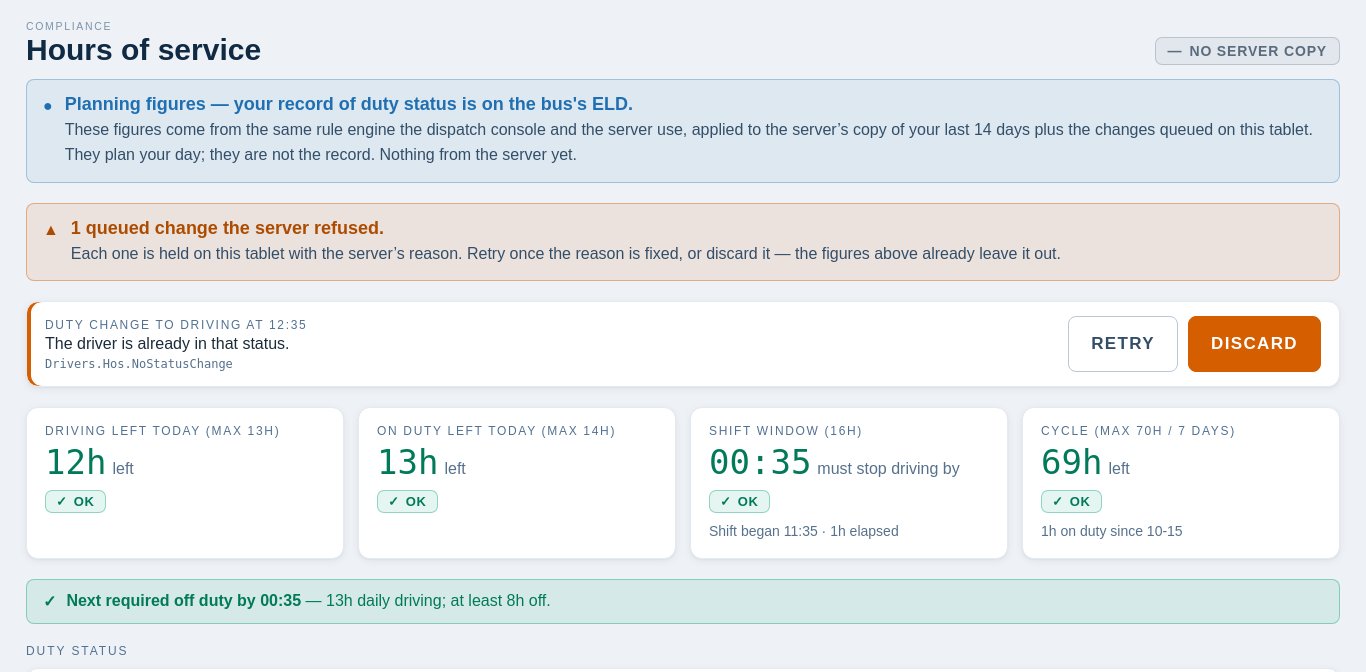
Test: Hours › lists a change the server refused with the server's message, and DISCARD removes it
Check: the text "The driver is already in that status." is shown, box [45,335,290,352]
Check: the text "Drivers.Hos.NoStatusChange" is shown, box [45,357,233,371]
What coordinates should you click on to do the following:
click the button "Discard"
I would click on:
 (1254, 344)
Its box is [1188,316,1321,372].
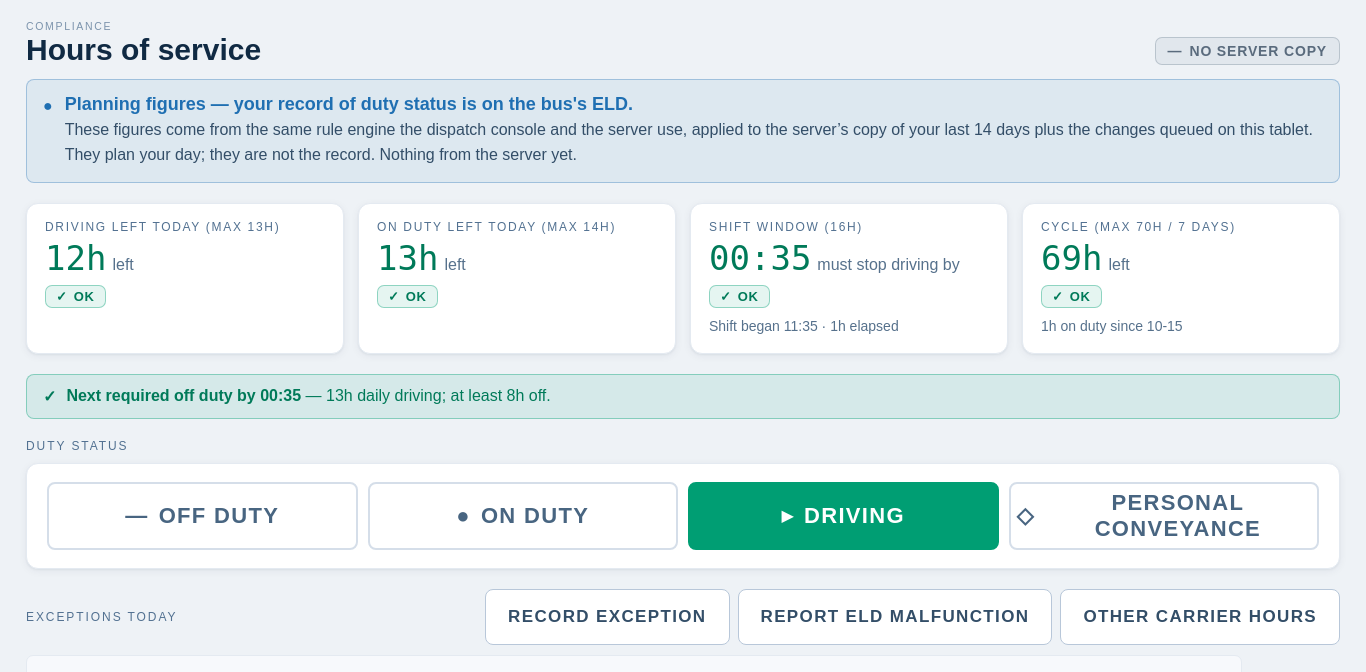
Check: the text "The driver is already in that status." is gone
